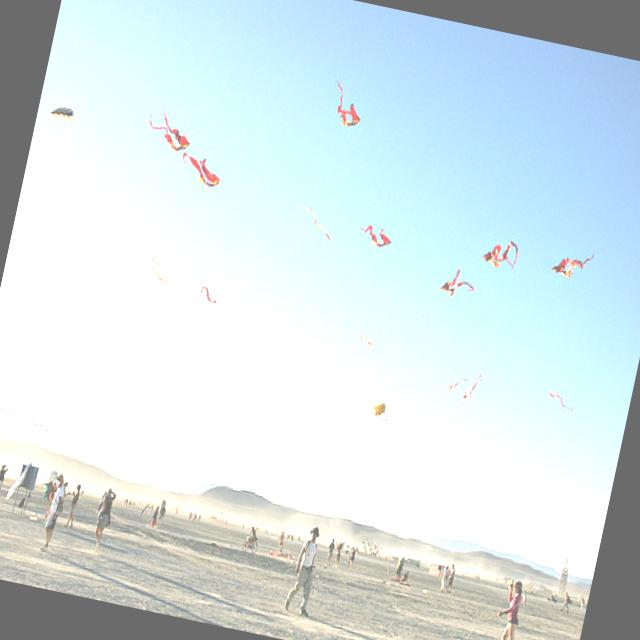Vehicle: (240, 536, 259, 554)
